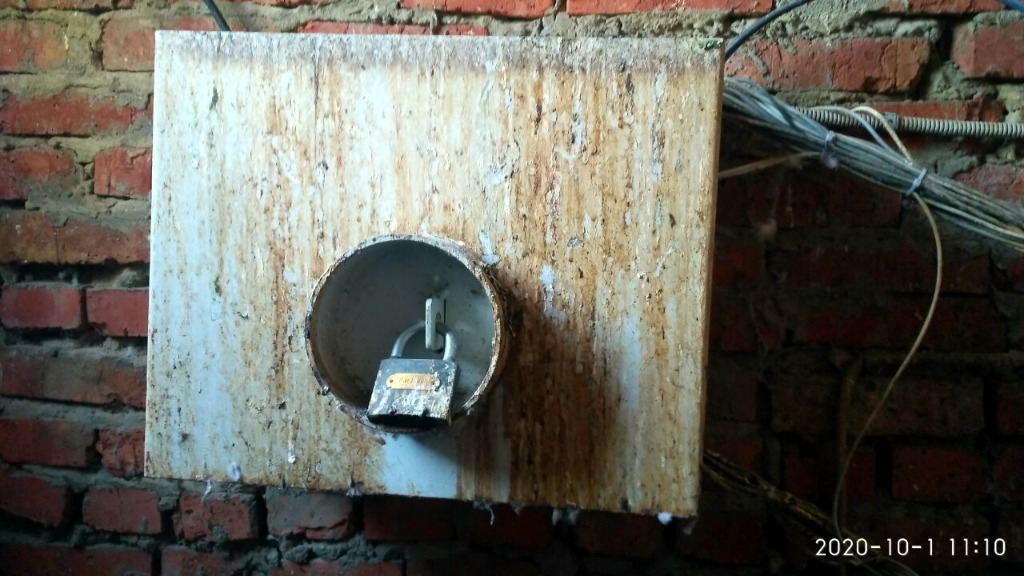shta-3: (140, 26, 727, 524)
